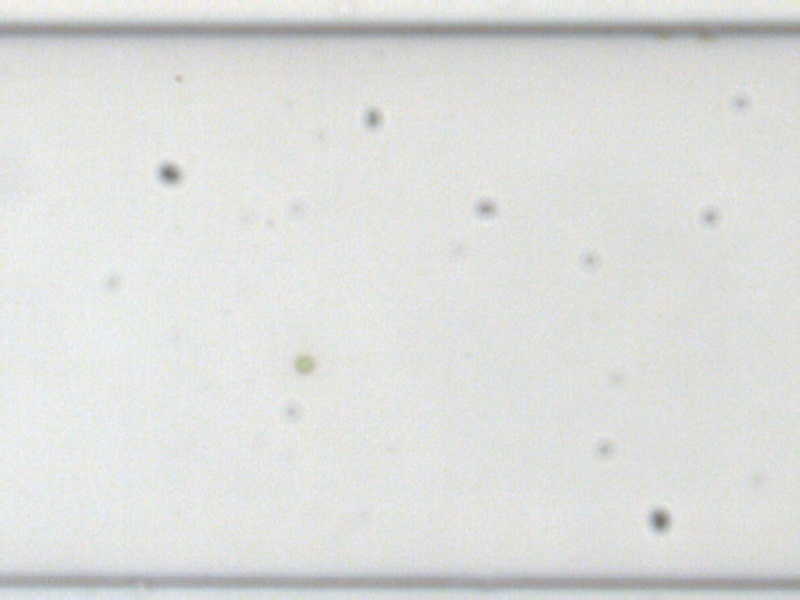Chlorella: (293, 353, 312, 374)
